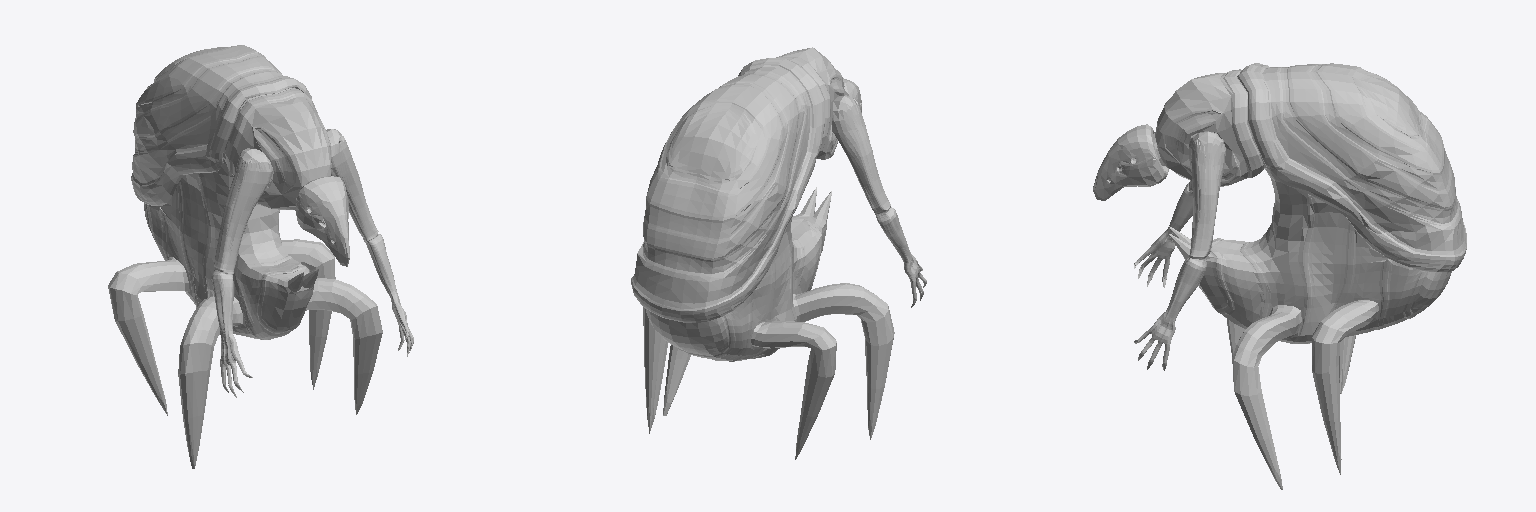
File: Correr.0008.obj
The picture shows the model from 3 angles: view 1: azimuth 30°, elevation 25°; view 2: azimuth 150°, elevation 25°; view 3: azimuth 270°, elevation 25°; orthographic projection.
Visible parts, largest first — view 1: pCube16; view 2: pCube16; view 3: pCube16.
Boxes of the visible parts, x1=… form: pCube16: x1=108, y1=45, x2=413, y2=468; pCube16: x1=631, y1=47, x2=926, y2=459; pCube16: x1=1093, y1=63, x2=1466, y2=489.
Bounding box in the file's own units: 2.17 × 3.59 × 3.3.